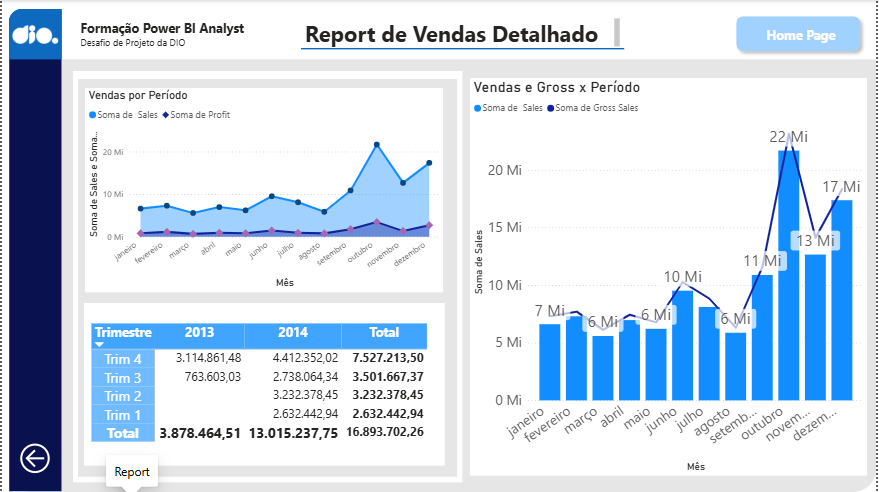

This screenshot's page, from the dashboard's own definition file:
{"tool":"powerbi","page":{"name":"Report","canvas":[1280,720],"ordinal":2},"visuals":[{"type":"group","id":"g1","title":"Layout","box":[10,12.8,1270,707],"z":0},{"type":"shape","box":[10,12.8,1270,707],"z":0,"group":"g1"},{"type":"shape","box":[437.3,51.5,473,37.1],"z":0,"group":"g3"},{"type":"shape","box":[103.6,103.6,569.9,601.9],"z":0,"group":"g2"},{"type":"shape","box":[10.1,13.4,77.2,706.3],"z":1000,"group":"g1"},{"type":"textbox","box":[438.7,21.3,470.2,52.2],"z":1000,"group":"g3"},{"type":"lineClusteredColumnComboChart","title":"Vendas e Gross x Período","fields":{"Category":["financials.Date.Variation.Hierarquia de datas.Mês"],"Y":["Sum(financials. Sales)"],"Y2":["Sum(financials.Gross Sales)"]},"box":[684.2,114.3,580.6,582.1],"z":1000},{"type":"shape","box":[110.3,114.6,554.7,582.1],"z":1000,"group":"g2"},{"type":"shape","box":[10.1,13.4,77.2,73.8],"z":2000,"group":"g1"},{"type":"group","id":"g2","title":"Detalhes venda x profit","box":[103.6,103.6,569.9,601.9],"z":2000},{"type":"shape","box":[120.1,443.5,528.4,238.2],"z":2000,"group":"g2"},{"type":"image","title":"logo_dio","box":[10.1,18.4,77.2,62.1],"z":3000,"group":"g1"},{"type":"textbox","title":"Título do report","box":[109.7,22.9,377.9,64],"z":3000},{"type":"areaChart","title":"Vendas por Período","fields":{"Category":["financials.Date.Variation.Hierarquia de datas.Trimestre","financials.Date.Variation.Hierarquia de datas.Mês"],"Y":["Sum(financials. Sales)","Sum(financials.Profit)"]},"box":[120.9,128.6,524.2,298.7],"z":3000,"group":"g2"},{"type":"shape","box":[87,12.8,1193.1,74.1],"z":4000,"group":"g1"},{"type":"group","id":"g3","title":"Sales report","box":[437.3,21.3,472.4,67],"z":4000},{"type":"pivotTable","fields":{"Columns":["financials.Date.Variation.Hierarquia de datas.Ano"],"Rows":["financials.Date.Variation.Hierarquia de datas.Trimestre"],"Values":["Sum(financials.Profit)"]},"box":[126,468.4,509.5,189.9],"z":4000,"group":"g2"},{"type":"actionButton","box":[20.6,622.4,55.6,96.9],"z":6000},{"type":"actionButton","title":"Home Page","box":[1064.7,14.6,199.6,69.2],"z":9000,"group":"g4"},{"type":"textbox","box":[1101,33.7,134.4,34.6],"z":9500,"group":"g4"},{"type":"group","id":"g4","title":"Botão home","box":[1064.7,14.6,199.6,69.2],"z":9501}]}

Visuals, with their boxes in screenshot pixels (x1, y1, x2, y2), scaled from the page's 1280x720 canvas onto the 879x492 screenshot:
"Layout" group: <box>7,9,878,491</box>
shape: <box>7,9,878,491</box>
shape: <box>300,35,625,61</box>
shape: <box>71,71,463,482</box>
shape: <box>7,9,60,491</box>
textbox: <box>301,15,624,50</box>
"Vendas e Gross x Período" lineClusteredColumnComboChart: <box>470,78,869,476</box>
shape: <box>76,78,457,476</box>
shape: <box>7,9,60,60</box>
"Detalhes venda x profit" group: <box>71,71,463,482</box>
shape: <box>82,303,445,466</box>
"logo_dio" image: <box>7,13,60,55</box>
"Título do report" textbox: <box>75,16,335,59</box>
"Vendas por Período" areaChart: <box>83,88,443,292</box>
shape: <box>60,9,878,59</box>
"Sales report" group: <box>300,15,625,60</box>
pivotTable - financials.Date.Variation.Hierarquia de datas.Ano x financials.Date.Variation.Hierarquia de datas.Trimestre: <box>87,320,436,450</box>
actionButton: <box>14,425,52,491</box>
"Home Page" actionButton: <box>731,10,868,57</box>
textbox: <box>756,23,848,47</box>
"Botão home" group: <box>731,10,868,57</box>
